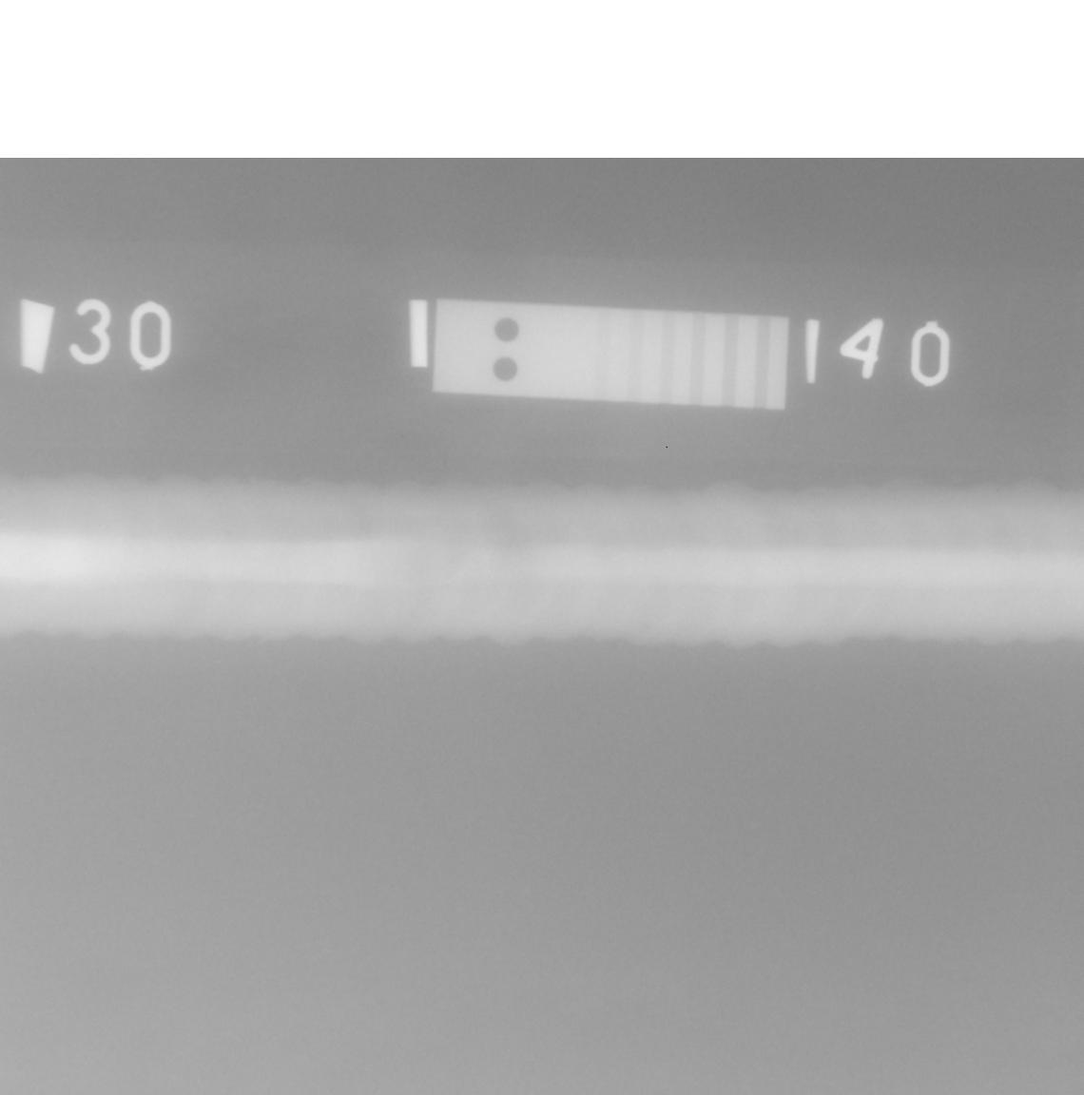Pore/Porosity: (642, 623, 649, 630)
Reference Standard 2: (432, 298, 789, 411)
